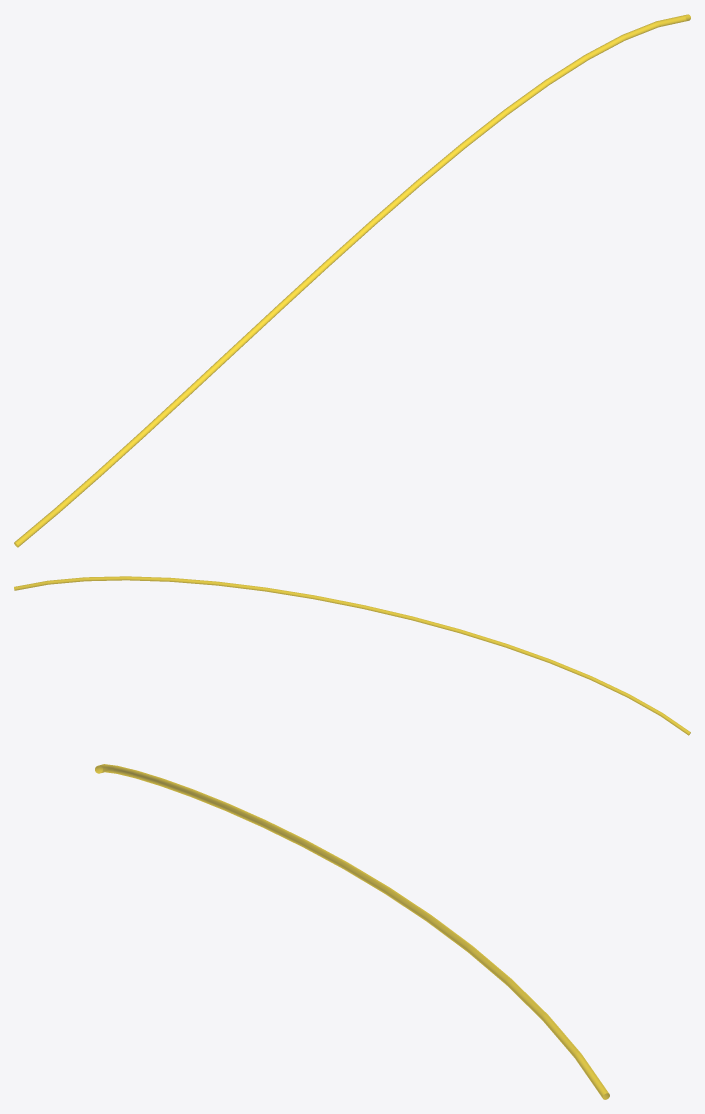
Rendered from Event_40932208_track_2.fbx.
3 views of the same model, one above another, from view 1: azimuth 30°, elevation 25°; view 2: azimuth 150°, elevation 25°; view 3: azimuth 270°, elevation 25° (orthographic). The views are drawn at different scales.
Parts seen in each view (by area): view 1: Model; view 2: Model; view 3: Model.
Part boxes in pixels (x1,y1,x2,y2): Model: (14, 14, 690, 547); Model: (14, 576, 690, 735); Model: (95, 764, 609, 1099).
Bounding box in the file's own units: 6.25 × 1.32 × 2.53.
